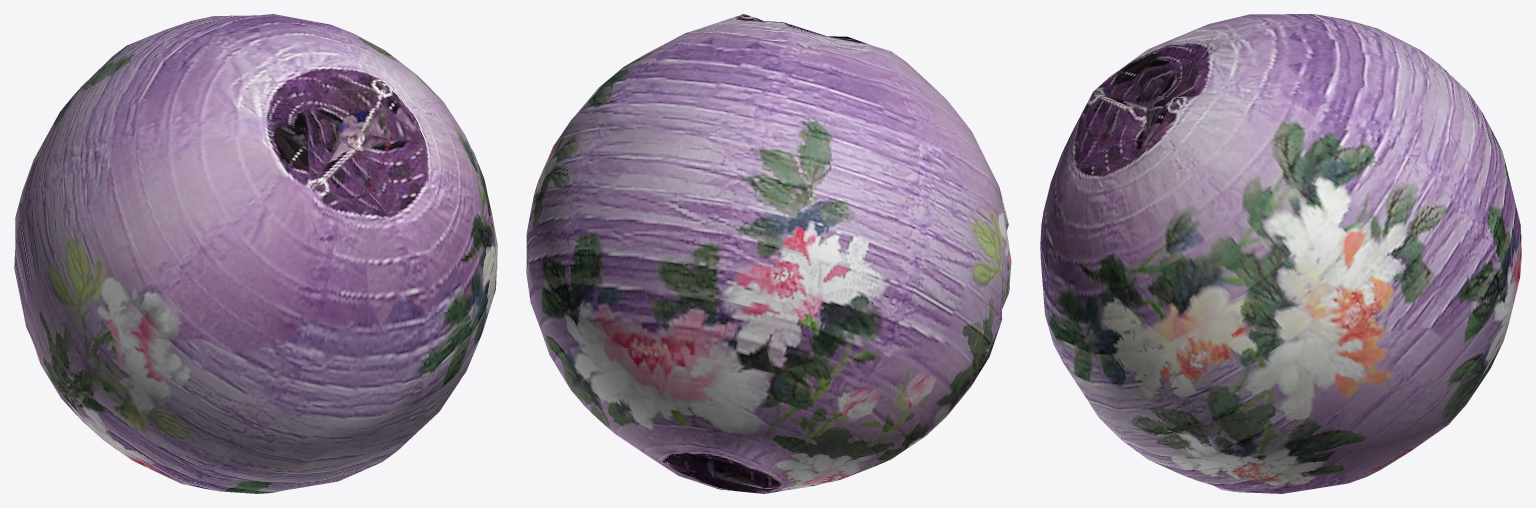
File: AH2 Bobbi Peonies.glb
3 views of the same model, side by side, from view 1: azimuth 30°, elevation 25°; view 2: azimuth 150°, elevation 25°; view 3: azimuth 270°, elevation 25° (orthographic).
Bounding box in the file's own units: 1000 × 982 × 985.
Materials: 1 (1 with a texture image).
